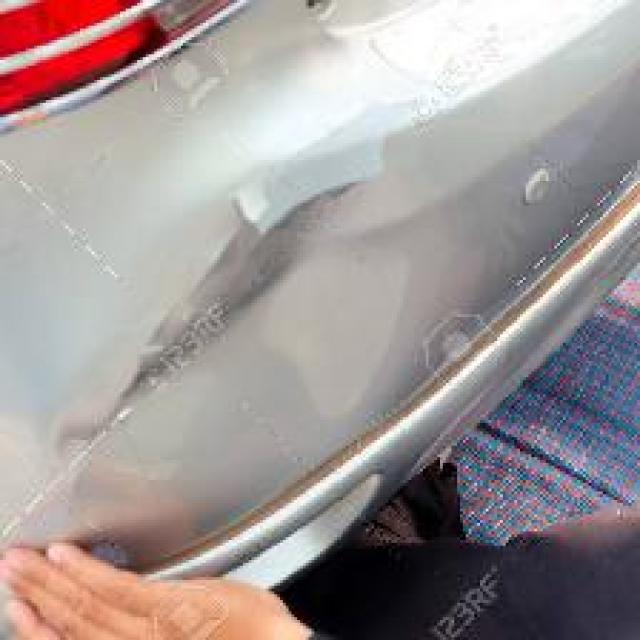bumper_dent_minor: (63, 166, 371, 449)
